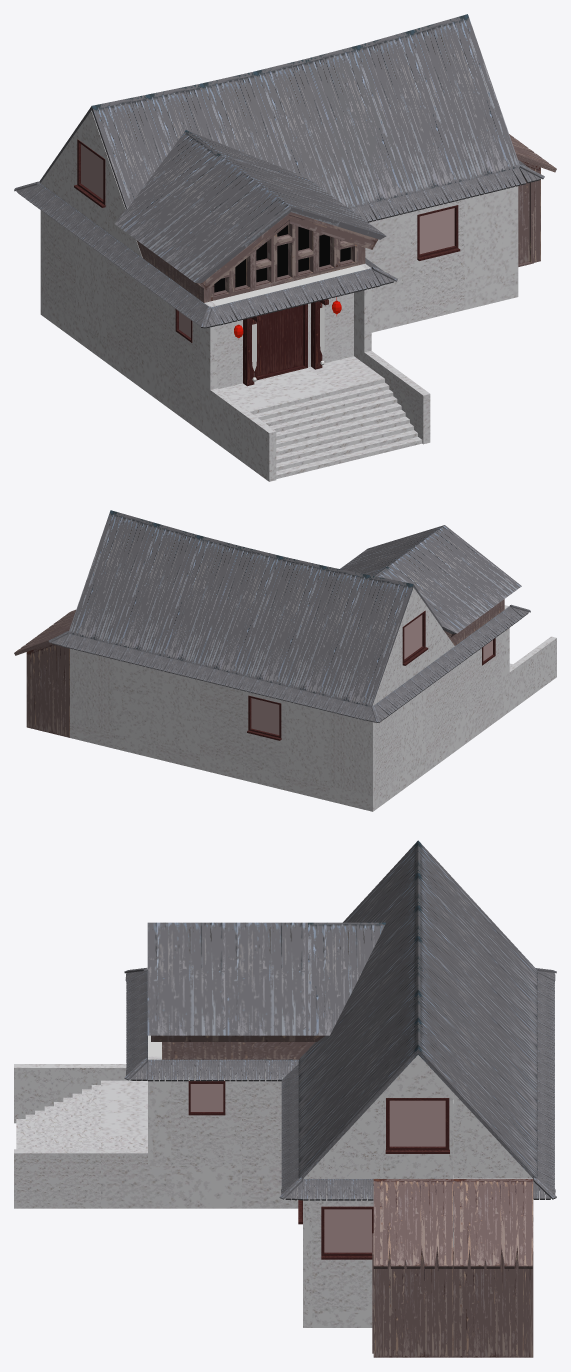
The model's file is house.fbx.
The picture shows the model from 3 angles, top to bottom: view 1: azimuth 30°, elevation 25°; view 2: azimuth 150°, elevation 25°; view 3: azimuth 270°, elevation 25°; orthographic projection. The views are drawn at different scales.
Visible parts, largest first — view 1: Box330, Box331, Box332, Box329, Box326, Box325, Box109, Box070, Box328, Box322, Box409, Box437 (+40 smaller); view 2: Box333, Box337, Box338, Box334, Box339, Box336, Box335, Box132, Box440, Box326, Box325, Box113 (+34 smaller); view 3: Box323, Box324, Box081, Box134, Box040, Box039, Box408, Box208, Box141, Box330, Box337, Box126 (+33 smaller).
Part boxes in pixels (box(x1,y1,x2,y2)): Box330: box(414, 14, 520, 180); Box331: box(360, 29, 466, 193); Box332: box(307, 45, 412, 206); Box329: box(253, 58, 358, 208); Box326: box(160, 181, 290, 283); Box325: box(124, 155, 254, 256); Box109: box(464, 186, 518, 291); Box070: box(91, 95, 166, 208); Box328: box(199, 72, 287, 169); Box322: box(211, 223, 357, 300); Box409: box(115, 130, 219, 230); Box437: box(365, 212, 410, 313); Box333: box(328, 575, 413, 706); Box337: box(68, 510, 153, 644); Box338: box(111, 522, 196, 654); Box334: box(284, 566, 369, 696); Box339: box(155, 535, 240, 664); Box336: box(198, 546, 283, 675); Box335: box(241, 556, 326, 685); Box132: box(26, 643, 69, 737); Box440: box(329, 712, 376, 796); Box326: box(416, 525, 521, 606); Box325: box(388, 546, 492, 627); Box113: box(286, 701, 329, 785); Box323: box(147, 922, 227, 1035); Box324: box(227, 922, 307, 1035); Box081: box(373, 1179, 453, 1268); Box134: box(453, 1179, 533, 1268); Box040: box(383, 1247, 453, 1357); Box039: box(453, 1247, 523, 1357); Box408: box(308, 922, 385, 1035); Box208: box(14, 1149, 100, 1208); Box141: box(171, 1065, 241, 1165); Box330: box(298, 1022, 418, 1178); Box337: box(418, 1022, 537, 1178); Box126: box(312, 1183, 373, 1306).
Size of the model in its own units: 510 by 258 by 455.
